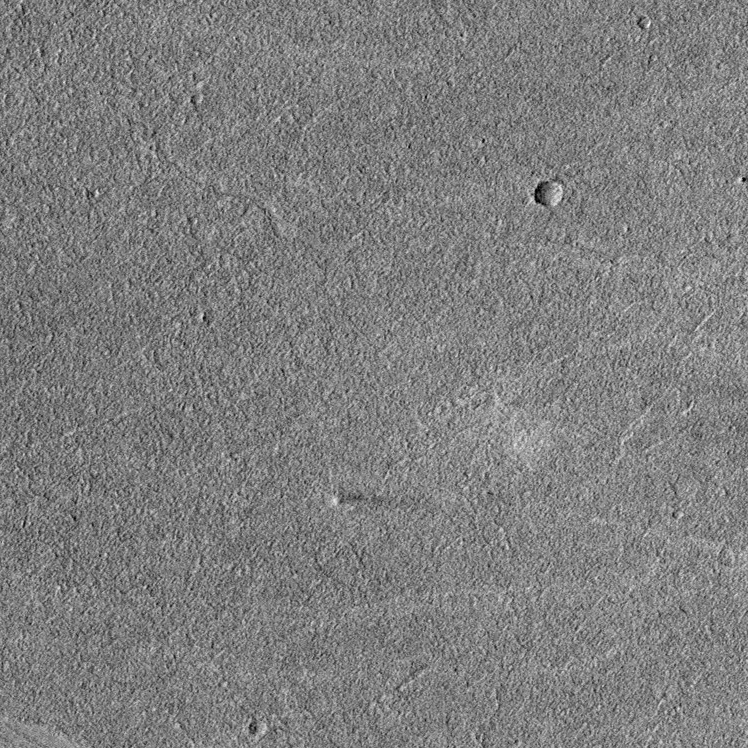dust_devil: (328, 492, 397, 509)
